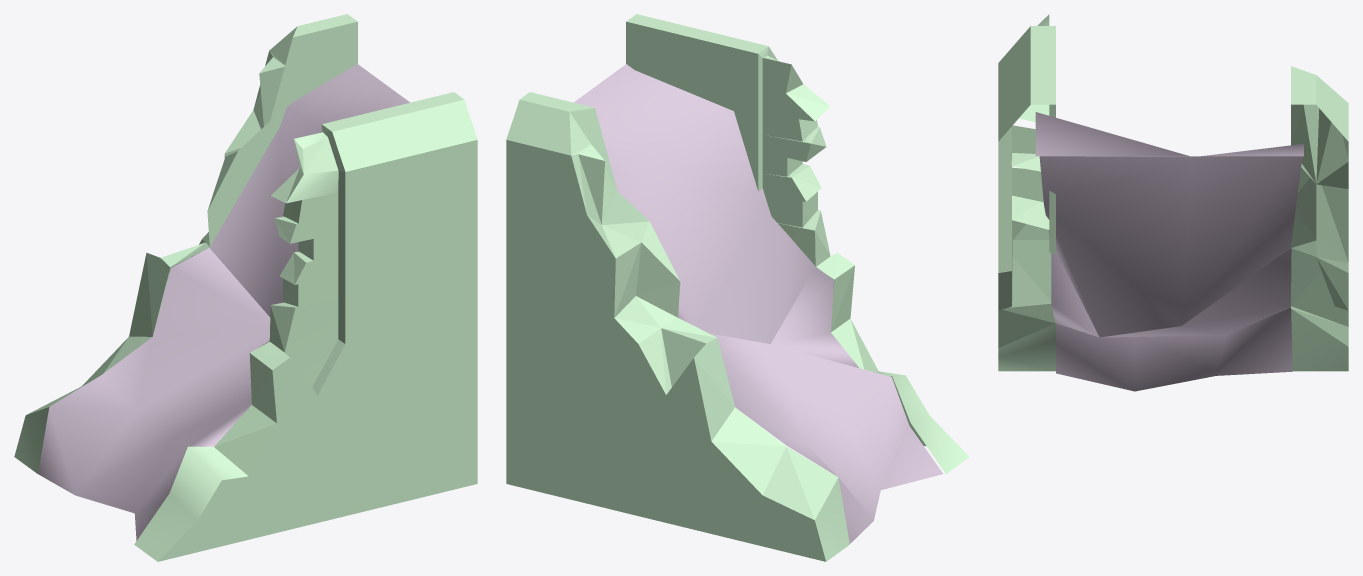
3 renders of one model, left to right at view 1: azimuth 30°, elevation 25°; view 2: azimuth 150°, elevation 25°; view 3: azimuth 270°, elevation 25°, orthographic. The views are drawn at different scales.
Parts seen in each view (by area): view 1: Object25; view 2: Object25; view 3: Object25.
Part boxes in pixels (box(x1,y1,x2,y2)): Object25: box(14, 14, 477, 561); Object25: box(506, 14, 969, 561); Object25: box(998, 14, 1348, 391).
Size of the model in its own units: 215 by 241 by 167.
